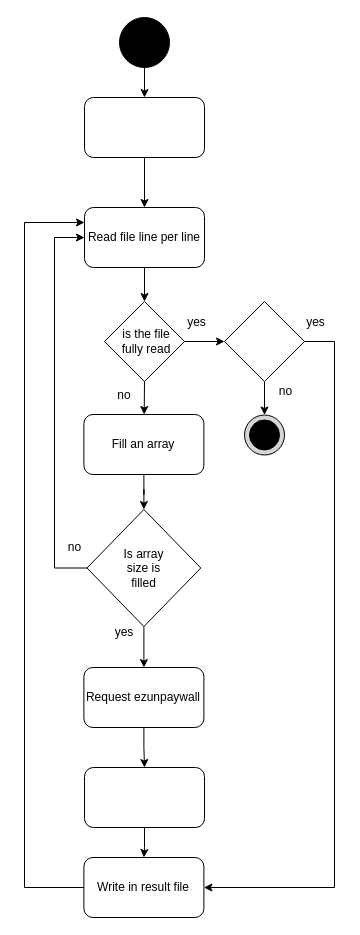
Image size: 360x935. Some labels were removed from this diagram. Each missing label, with the box of its shape:
Enrich the array with result of request: (84, 766, 204, 828)
is array contain data: (224, 300, 304, 382)
Start enrich job: (84, 96, 204, 158)
